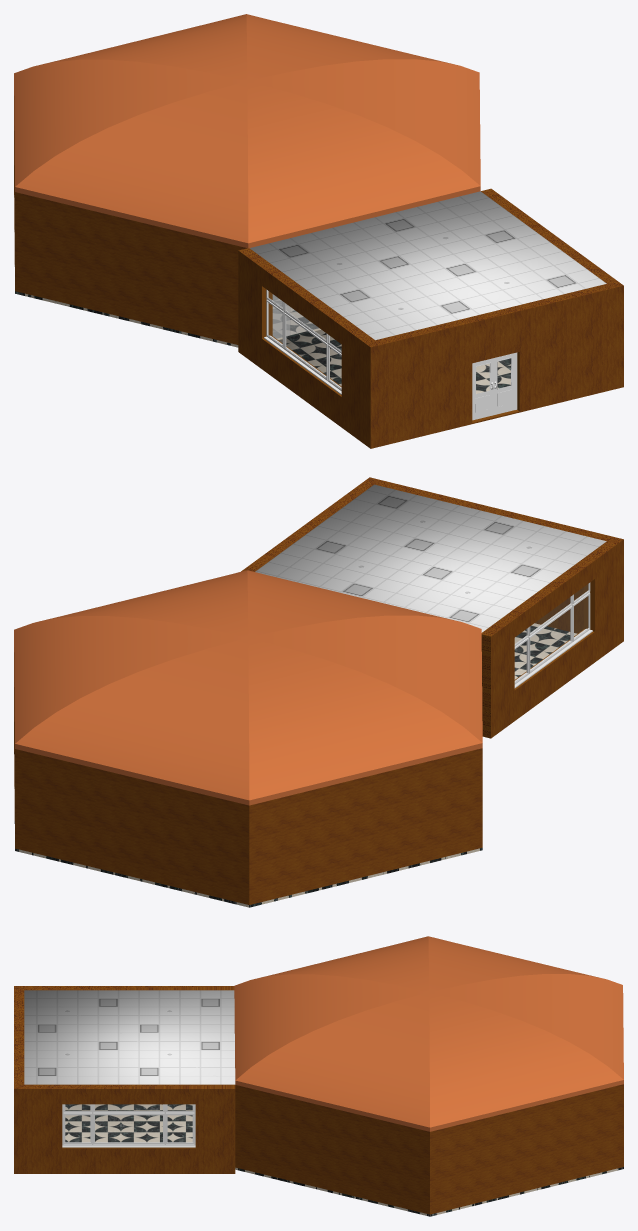
Rendered from room.glb.
The picture shows the model from 3 angles, top to bottom: view 1: azimuth 30°, elevation 25°; view 2: azimuth 150°, elevation 25°; view 3: azimuth 270°, elevation 25°; orthographic projection. The views are drawn at different scales.
Parts seen in each view (by area): view 1: ceiling, wall, ceiling hall, floor, Window.007, Door.001, Door, Window.005; view 2: ceiling, wall, ceiling hall, floor, Window.007, Window.005; view 3: ceiling, wall, ceiling hall, floor, Window.004, Window.002, Window.003, Window.
Boxes of the visible parts, x1=… form: ceiling: x1=14, y1=14, x2=480, y2=248; wall: x1=14, y1=96, x2=623, y2=448; ceiling hall: x1=250, y1=191, x2=606, y2=340; floor: x1=14, y1=195, x2=511, y2=393; Window.007: x1=268, y1=291, x2=340, y2=386; Door.001: x1=493, y1=353, x2=514, y2=414; Door: x1=472, y1=358, x2=493, y2=420; Window.005: x1=266, y1=289, x2=341, y2=390; ceiling: x1=14, y1=570, x2=482, y2=805; wall: x1=14, y1=477, x2=623, y2=904; ceiling hall: x1=255, y1=484, x2=606, y2=632; floor: x1=14, y1=623, x2=577, y2=907; Window.007: x1=515, y1=585, x2=587, y2=680; Window.005: x1=514, y1=582, x2=590, y2=684; ceiling: x1=234, y1=936, x2=623, y2=1131; wall: x1=14, y1=986, x2=623, y2=1214; ceiling hall: x1=24, y1=990, x2=235, y2=1084; floor: x1=65, y1=1104, x2=623, y2=1216; Window.004: x1=66, y1=1105, x2=191, y2=1141; Window.002: x1=62, y1=1104, x2=195, y2=1145; Window.003: x1=64, y1=1104, x2=193, y2=1142; Window: x1=62, y1=1145, x2=195, y2=1147.
Bounding box in the file's own units: 34.57 × 11 × 46.99.
Materials: 18 (3 with a texture image).
